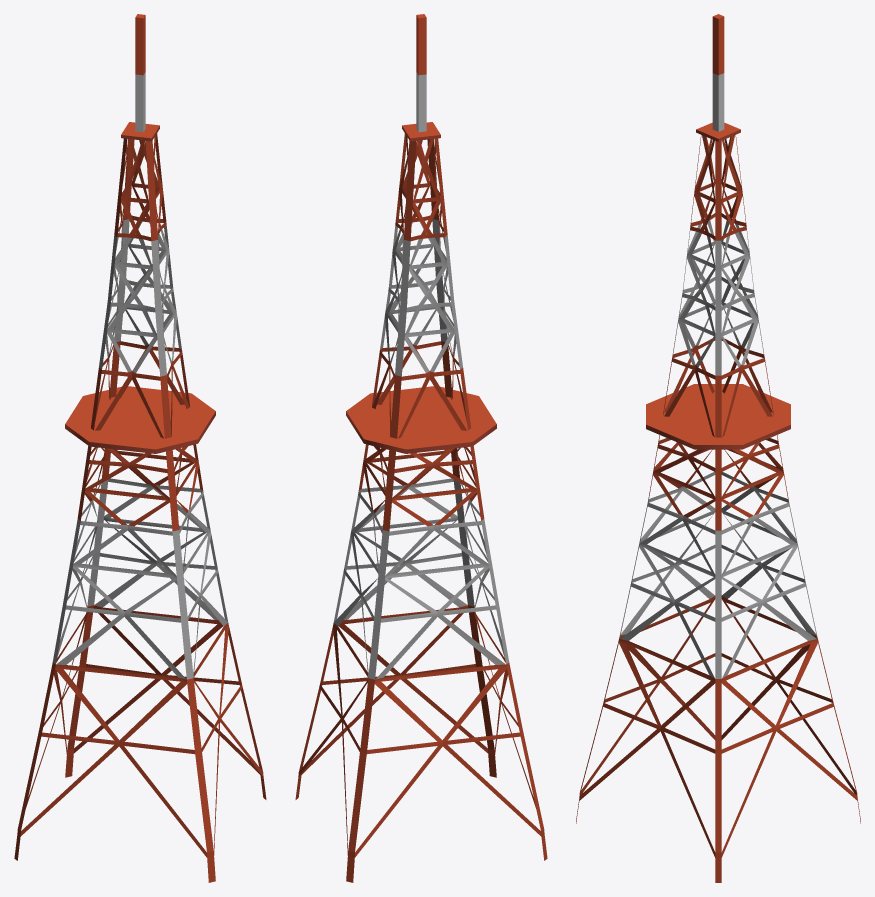
Rendered from human-electronics-transmission-tower_v1.fbx.
3 renders of one model, left to right at view 1: azimuth 30°, elevation 25°; view 2: azimuth 150°, elevation 25°; view 3: azimuth 270°, elevation 25°, orthographic.
Parts seen in each view (by area): view 1: Transmission Tower; view 2: Transmission Tower; view 3: Transmission Tower.
Boxes of the visible parts, x1,y1,x2,y2 form: Transmission Tower: [14, 14, 266, 882]; Transmission Tower: [295, 14, 547, 882]; Transmission Tower: [576, 14, 860, 882].
Bounding box in the file's own units: 32.02 × 100 × 32.02.
